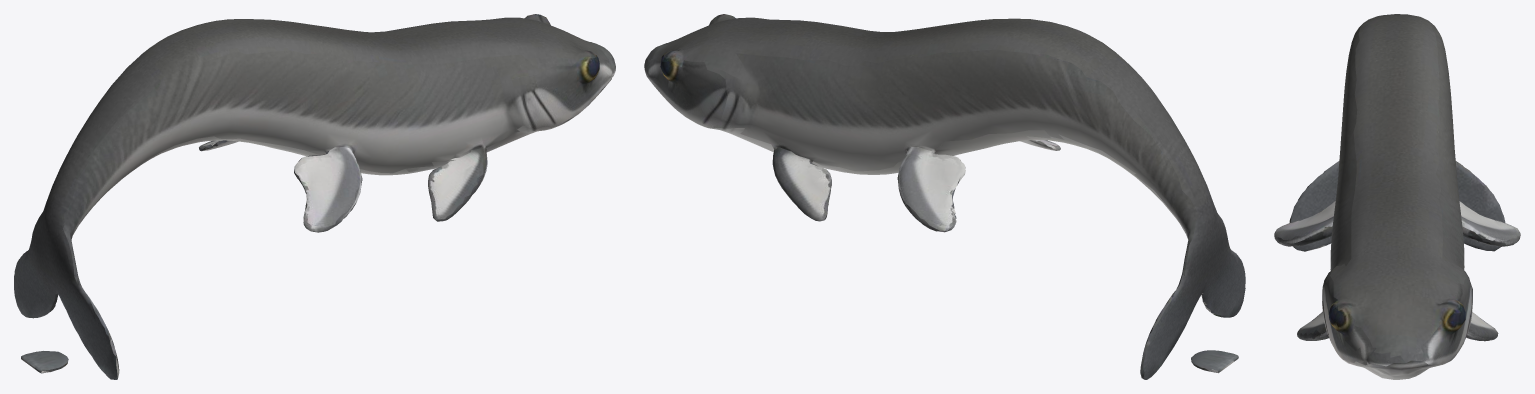
Rendered from pipe_eel.glb.
The picture shows the model from 3 angles, left to right: view 1: azimuth 30°, elevation 25°; view 2: azimuth 150°, elevation 25°; view 3: azimuth 270°, elevation 25°; orthographic projection. The views are drawn at different scales.
Parts seen in each view (by area): view 1: pipe_eel; view 2: pipe_eel; view 3: pipe_eel.
Part boxes in pixels (bbox=[...]): pipe_eel: bbox=[14, 14, 615, 379]; pipe_eel: bbox=[644, 14, 1245, 379]; pipe_eel: bbox=[1274, 14, 1520, 379].
Size of the model in its own units: 1 by 0.4824 by 0.3484.
Materials: 1 (1 with a texture image).
